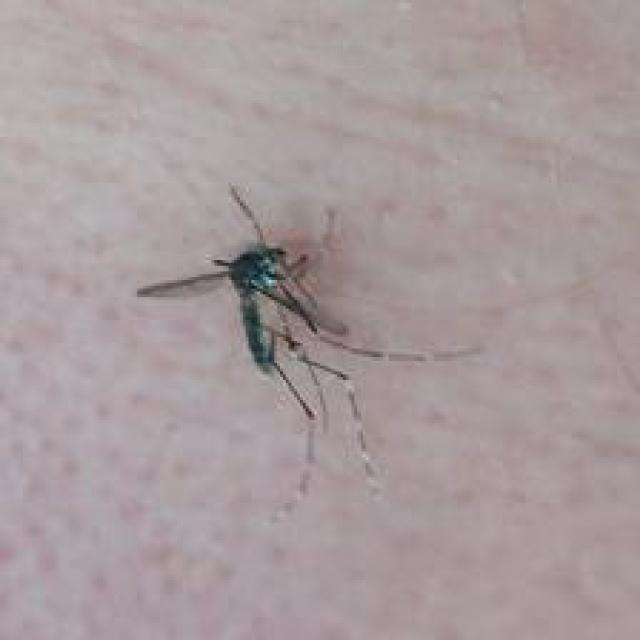Aedes albopictus: (134, 181, 483, 513)
